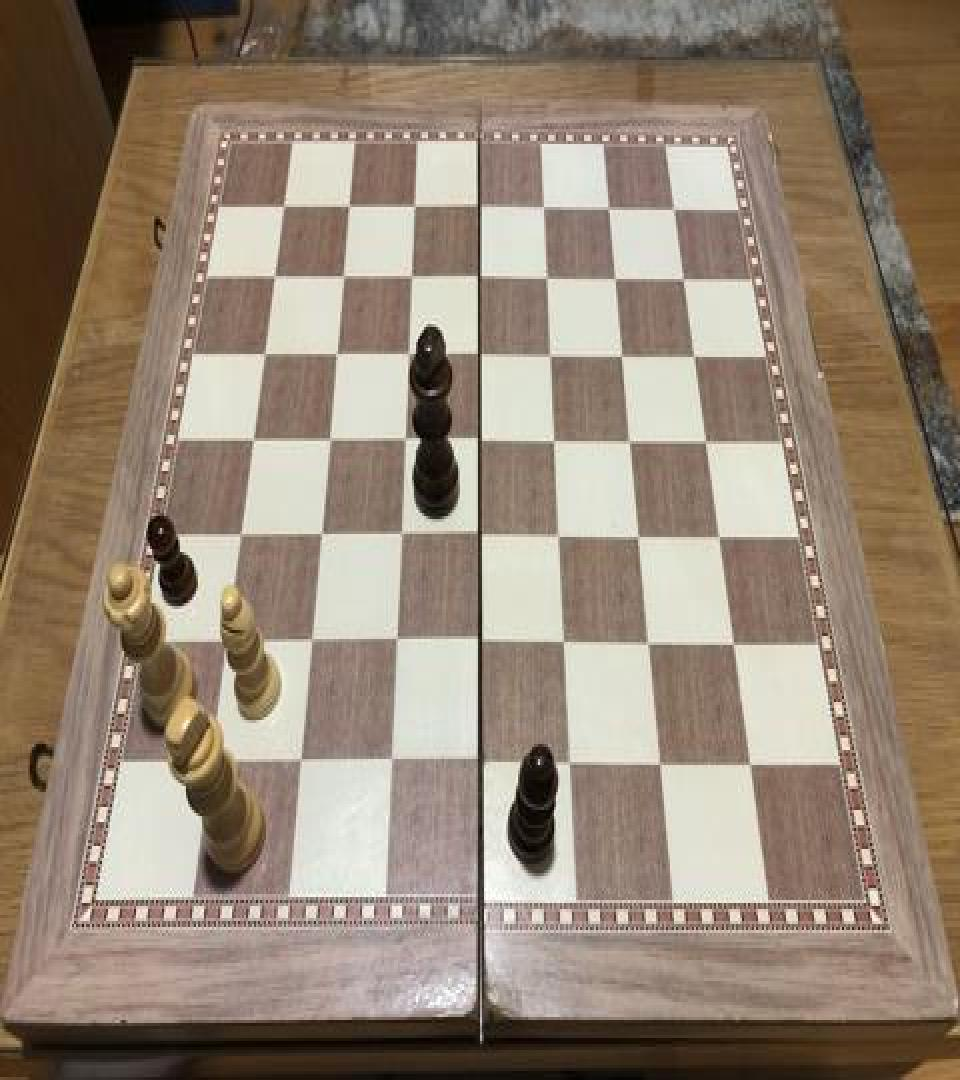xcorner: (669, 258, 693, 294), (601, 258, 625, 294), (534, 258, 558, 294), (466, 258, 490, 294), (398, 258, 422, 294), (330, 258, 354, 294), (262, 258, 286, 294), (680, 336, 704, 372), (609, 336, 633, 372), (537, 336, 561, 372), (466, 336, 490, 372), (395, 336, 419, 372), (323, 336, 347, 372), (252, 336, 276, 372), (692, 422, 716, 458), (617, 422, 641, 458), (542, 422, 566, 458), (467, 422, 491, 458), (391, 422, 415, 458), (316, 422, 340, 458), (241, 422, 265, 458), (706, 518, 730, 554), (626, 518, 650, 554), (547, 518, 571, 554), (467, 518, 491, 554), (387, 518, 411, 554), (308, 518, 332, 554), (228, 518, 252, 554), (721, 624, 745, 660), (636, 624, 660, 660), (552, 624, 576, 660), (467, 624, 491, 660), (383, 624, 407, 660), (299, 624, 323, 660), (214, 624, 238, 660), (738, 746, 762, 782), (648, 746, 672, 782), (558, 746, 582, 782), (468, 746, 492, 782), (378, 746, 402, 782), (288, 746, 312, 782), (198, 746, 222, 782), (659, 188, 683, 223), (595, 188, 619, 223), (530, 188, 554, 223), (465, 188, 489, 223), (401, 188, 425, 223), (336, 188, 360, 223), (271, 188, 295, 223)
